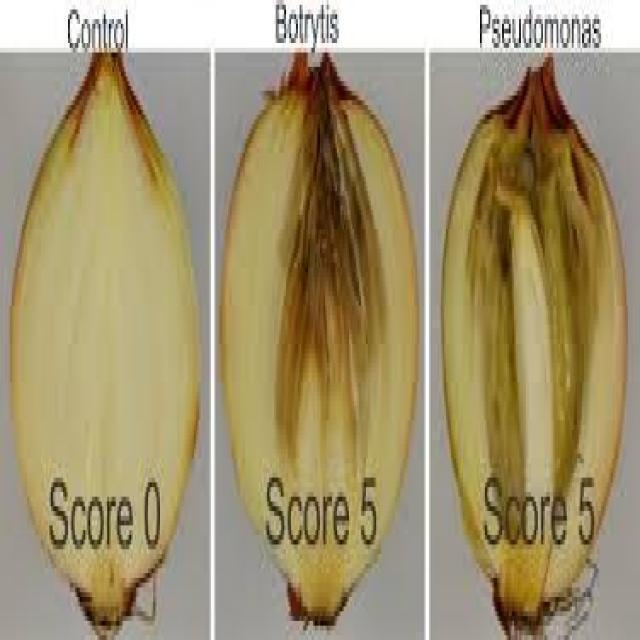Onion: (219, 54, 415, 634), (9, 52, 202, 640), (441, 55, 625, 640)
